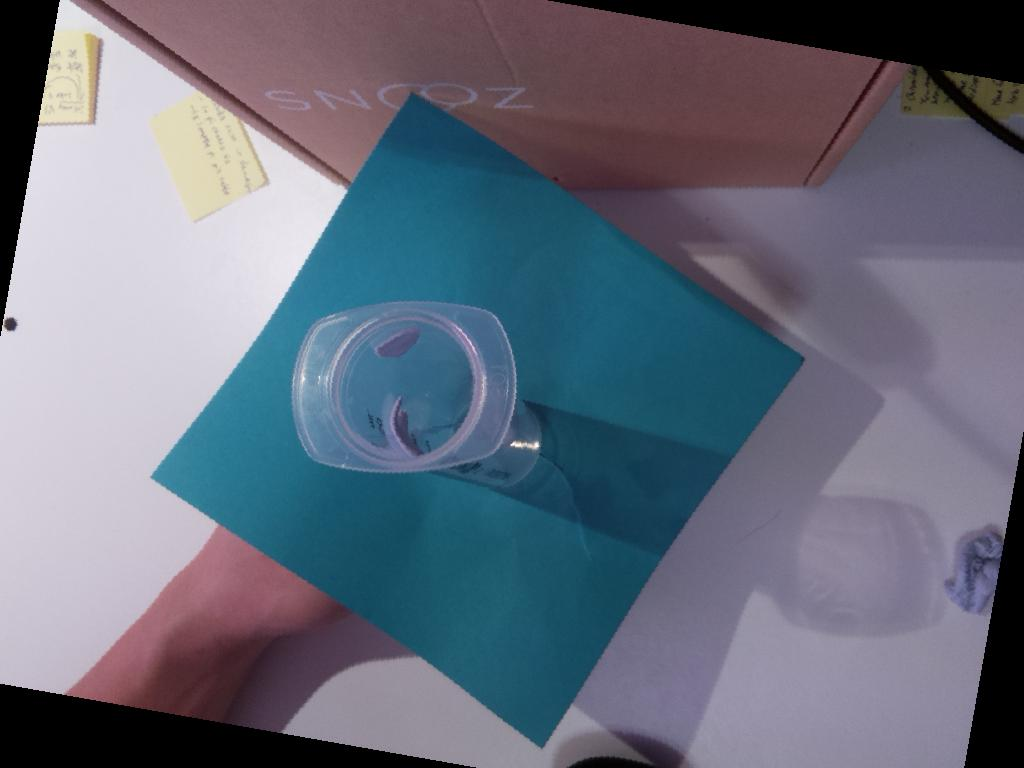dirty: (288, 301, 517, 474)
